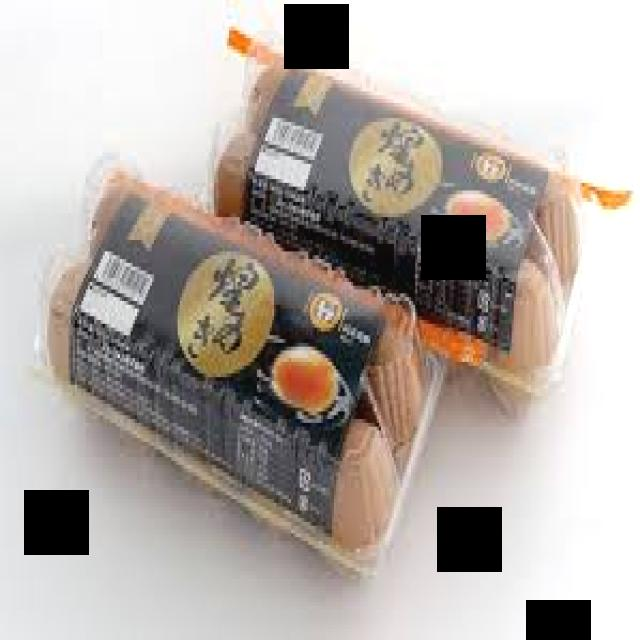egg: (36, 145, 441, 571), (210, 27, 631, 419)
